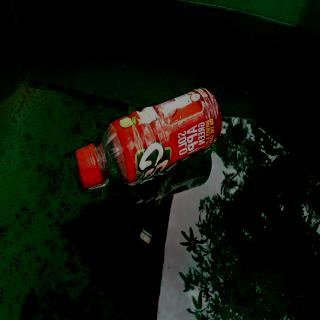bottle: (74, 86, 222, 190)
